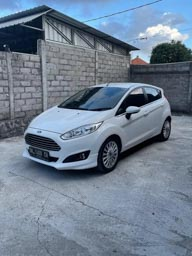plat: (27, 149, 49, 160)
